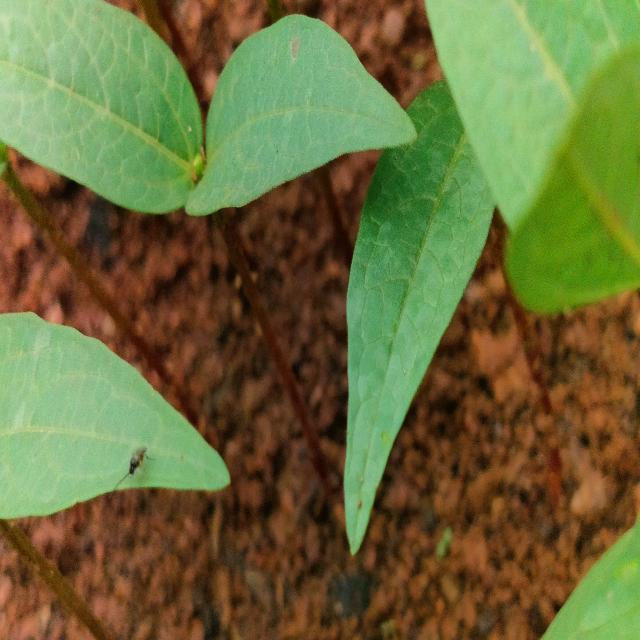Black gram_healthy: (345, 66, 536, 556), (188, 12, 415, 212)
